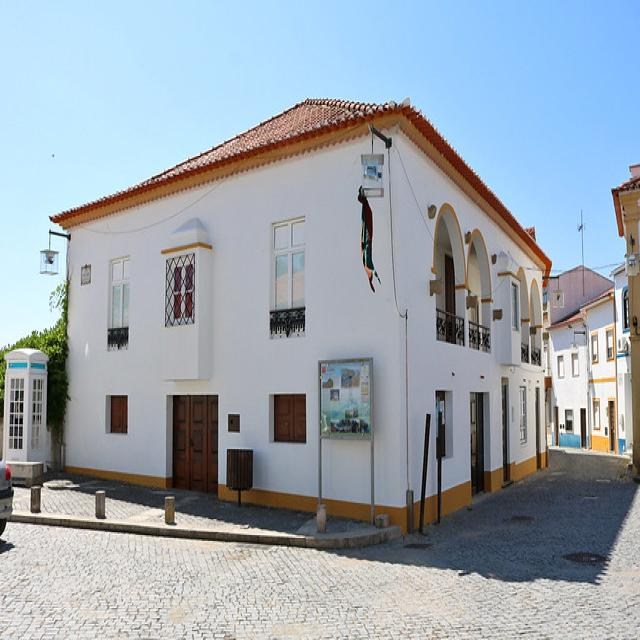building: (44, 92, 556, 538)
